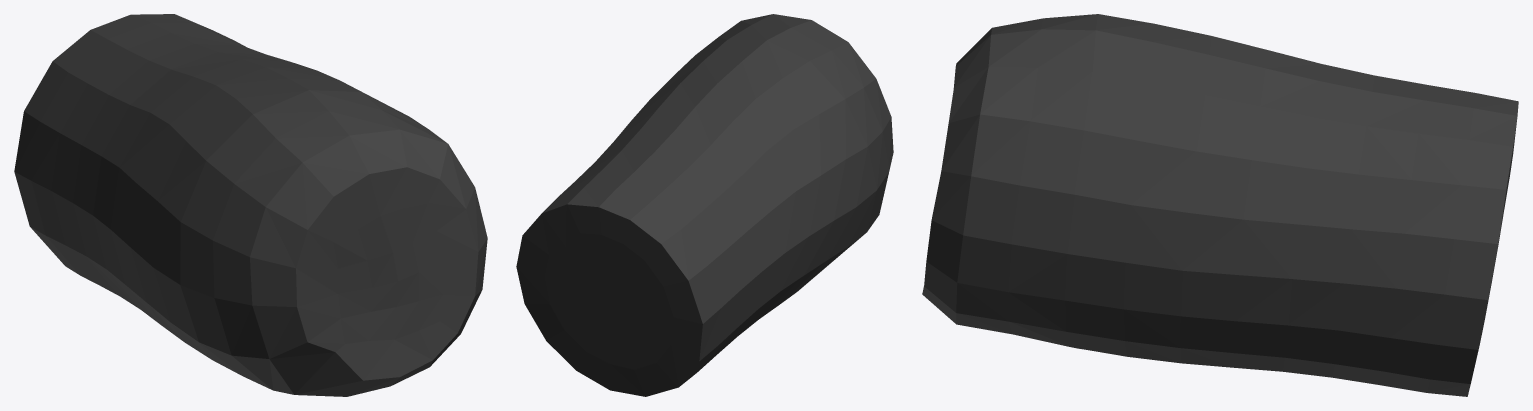
File: Optic_nn.glb
3 views of the same model, side by side, from view 1: azimuth 30°, elevation 25°; view 2: azimuth 150°, elevation 25°; view 3: azimuth 270°, elevation 25° (orthographic). The views are drawn at different scales.
Visible parts, largest first — view 1: Optic_nn; view 2: Optic_nn; view 3: Optic_nn.
Part boxes in pixels (box(x1,y1,x2,y2)): Optic_nn: box(14, 14, 487, 396); Optic_nn: box(516, 14, 893, 396); Optic_nn: box(922, 14, 1518, 396).
Bounding box in the file's own units: 0.2478 × 0.2832 × 0.4422.
1 material, 1 textured.
